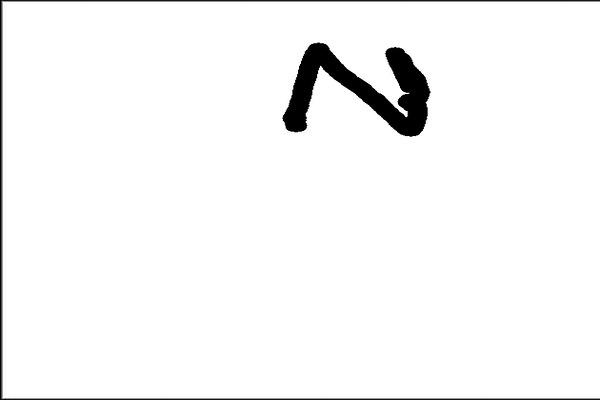N: (275, 32, 434, 142)
